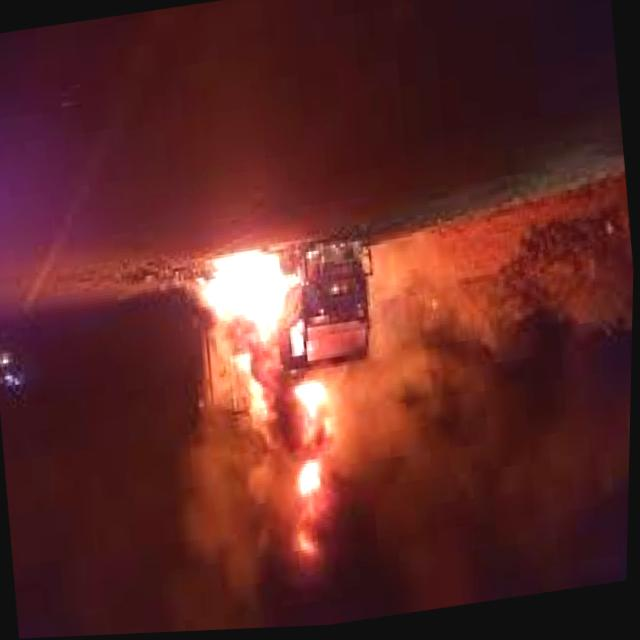Fire: (180, 244, 345, 398)
Smoke: (184, 356, 494, 601)
